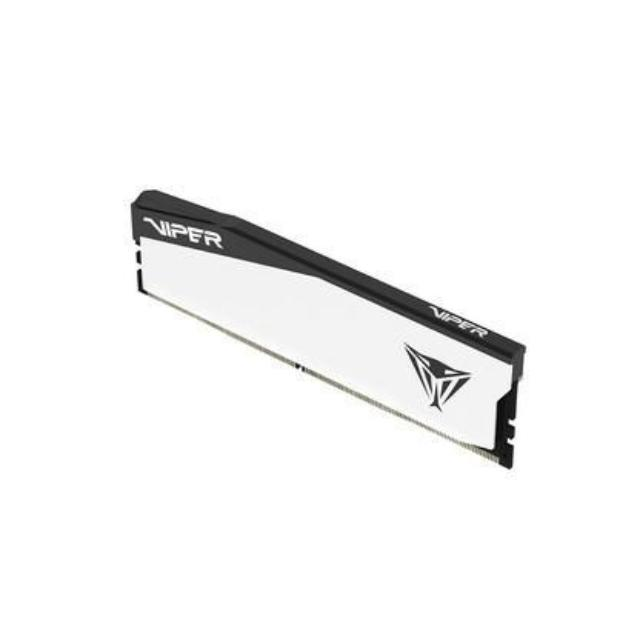RAM: (124, 180, 536, 472)
